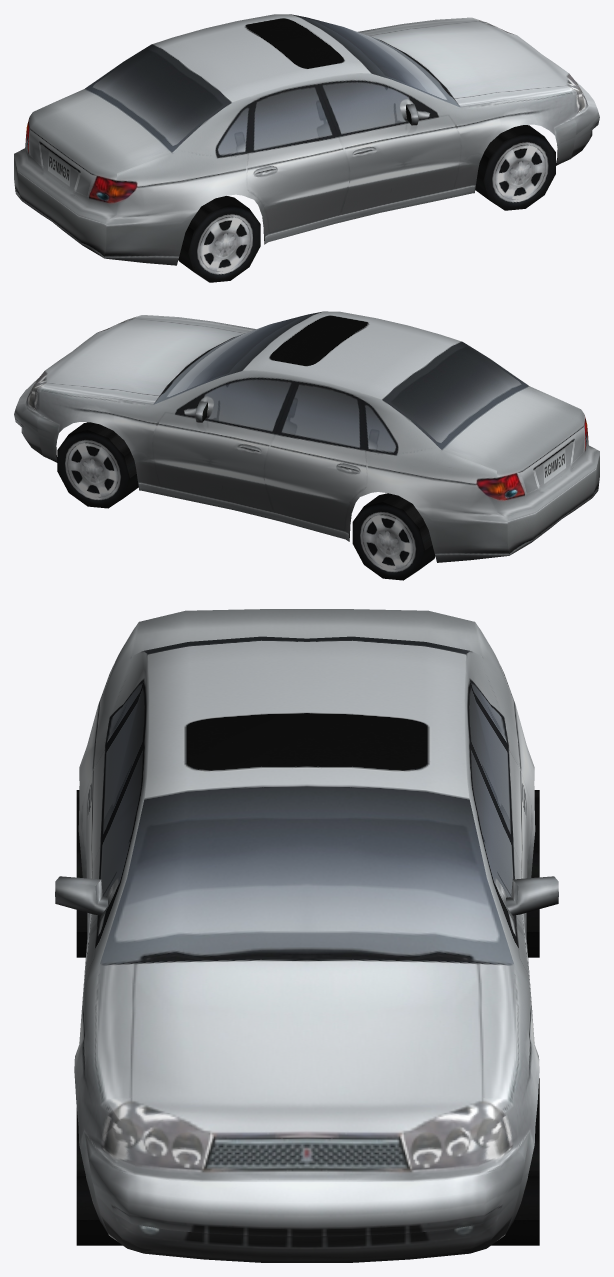
File: saturn.FBX
The picture shows the model from 3 angles, top to bottom: view 1: azimuth 30°, elevation 25°; view 2: azimuth 150°, elevation 25°; view 3: azimuth 270°, elevation 25°; orthographic projection. The views are drawn at different scales.
Parts seen in each view (by area): view 1: saturn; view 2: saturn; view 3: saturn.
Boxes of the visible parts, x1,y1,x2,y2 form: saturn: (14, 14, 599, 282); saturn: (14, 311, 599, 580); saturn: (55, 609, 558, 1262).
Bounding box in the file's own units: 4.92 × 2.06 × 1.54.
